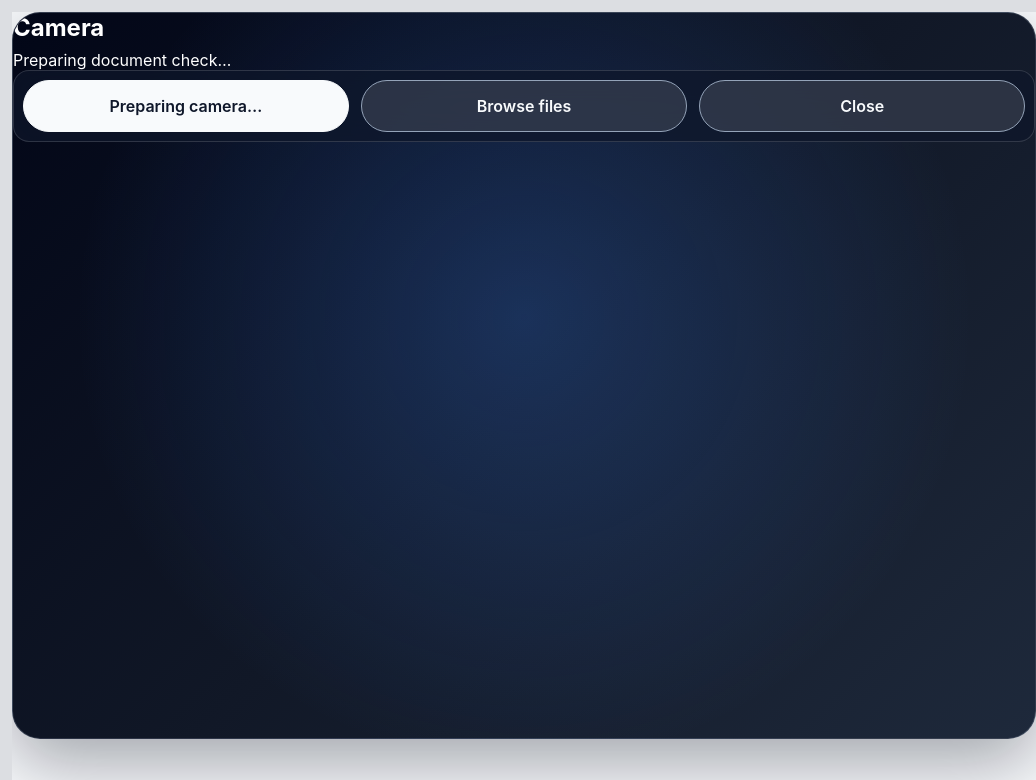
Test: QrScanner route lifecycle › cancels pending preparation when leaving through close
Expected: the text "Preparing document check…" is shown, [13,50,231,70]
Click the button "Close".
click(862, 106)  # box [699,80,1025,132]
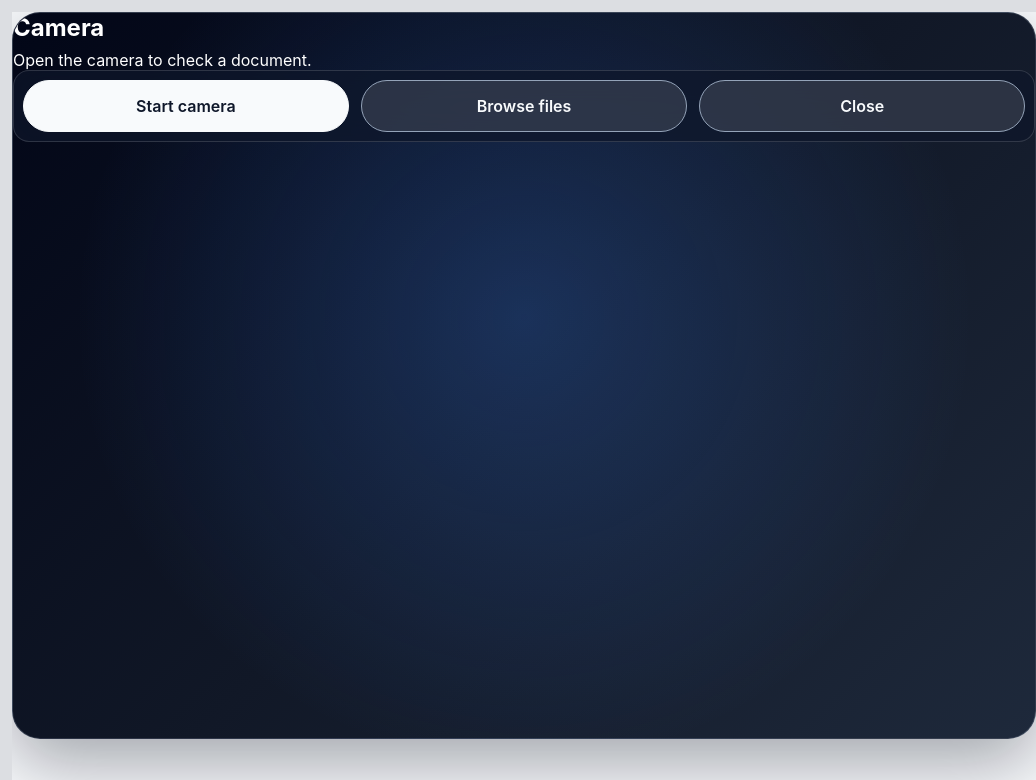
Now the button "Start camera" is enabled, box [23,80,349,132]
